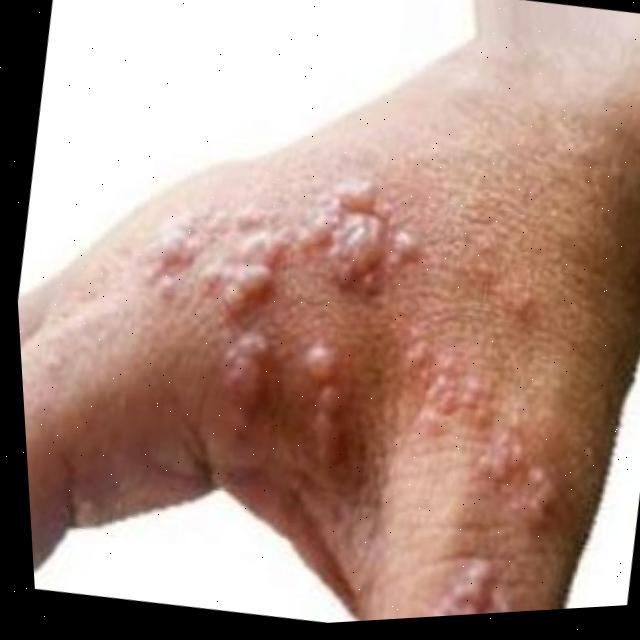Shingles: (101, 134, 427, 428), (424, 360, 571, 520), (430, 540, 507, 617)
